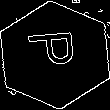P_E: (25, 34, 85, 76)
